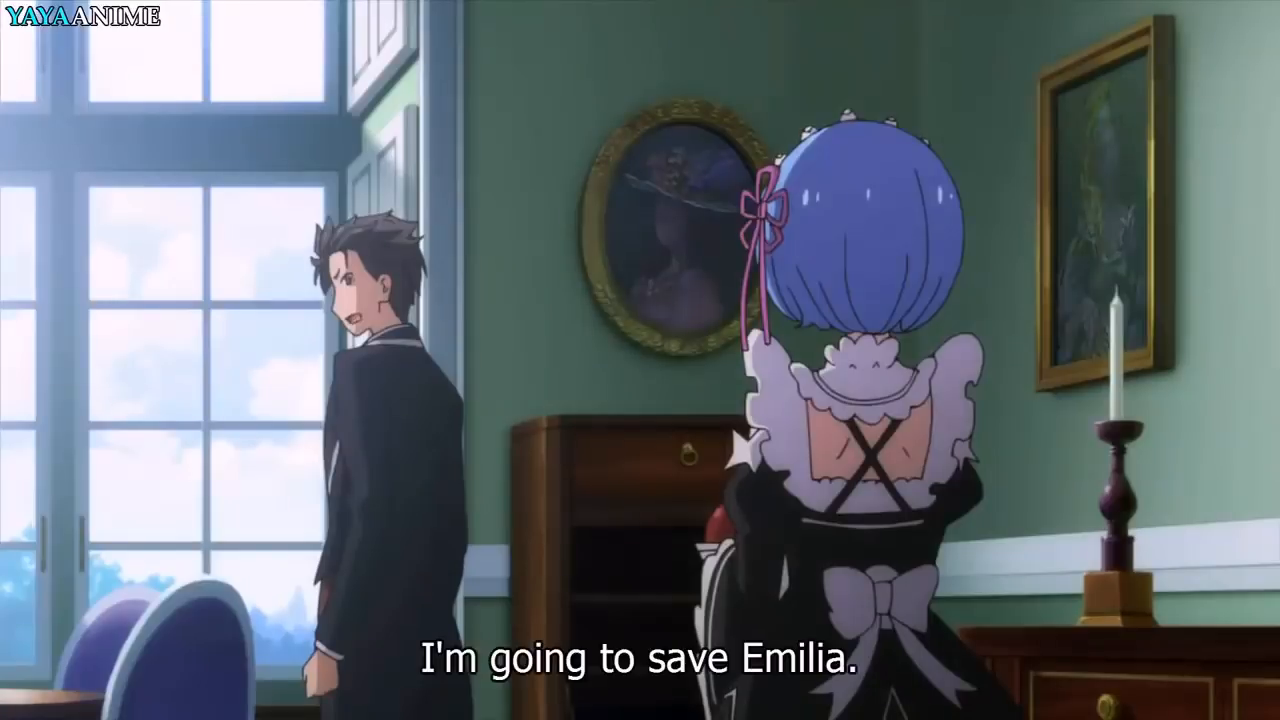REM: (742, 114, 969, 340)
